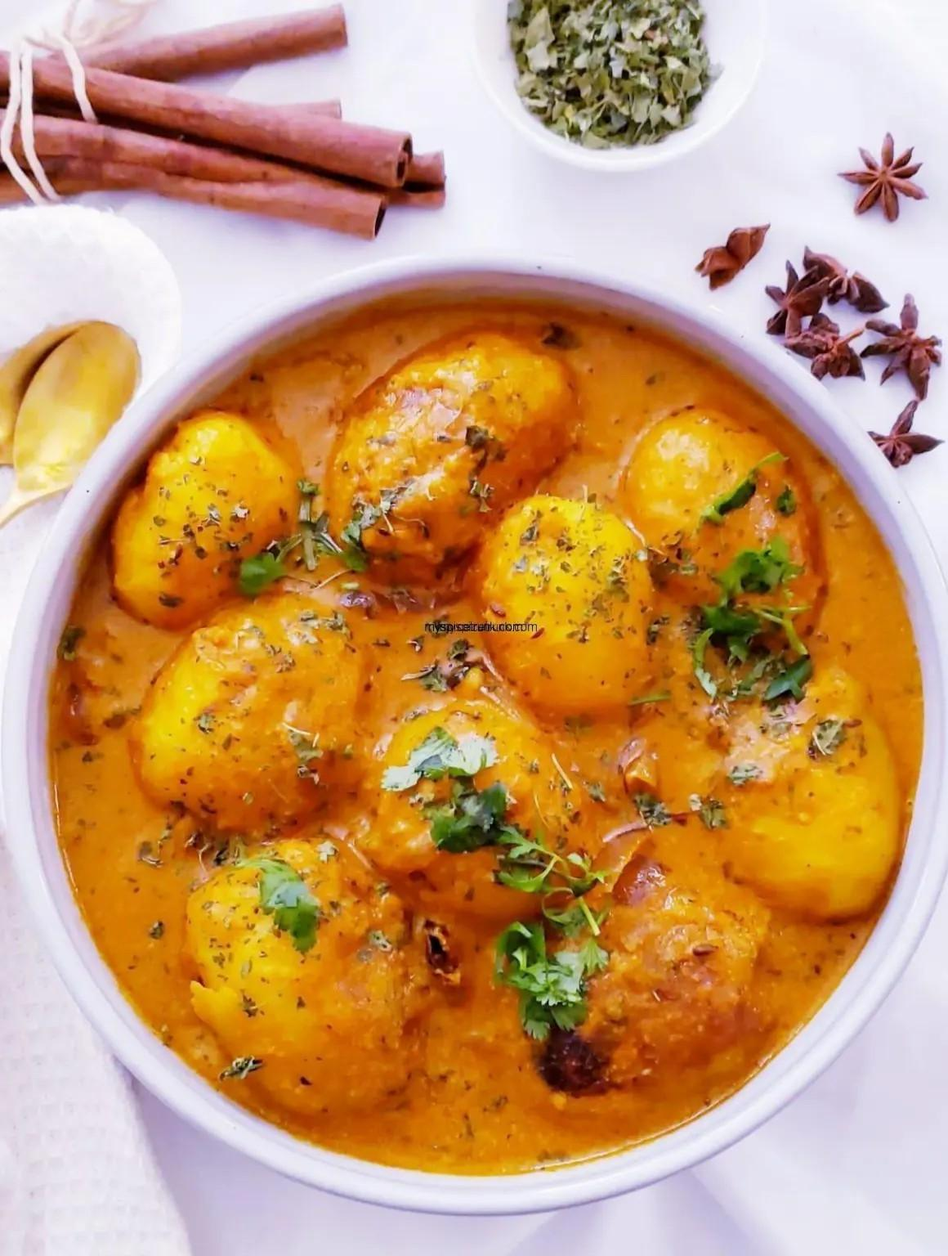DumAloo: (45, 287, 922, 1162)
